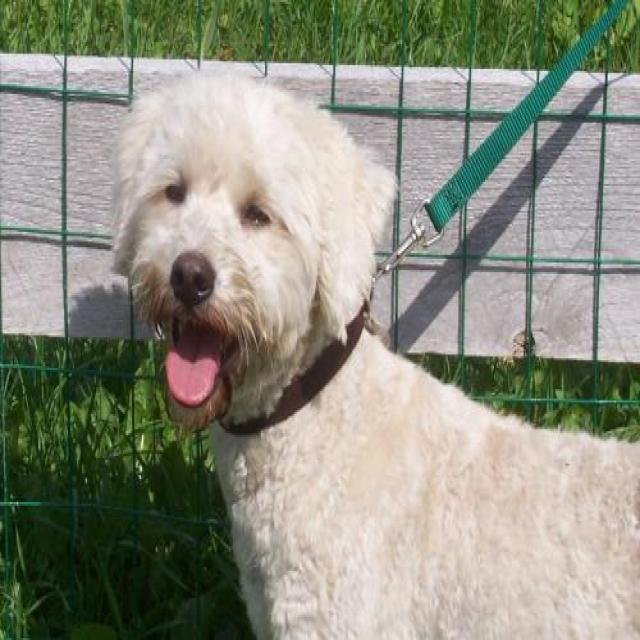Dogs: (110, 69, 639, 638)
